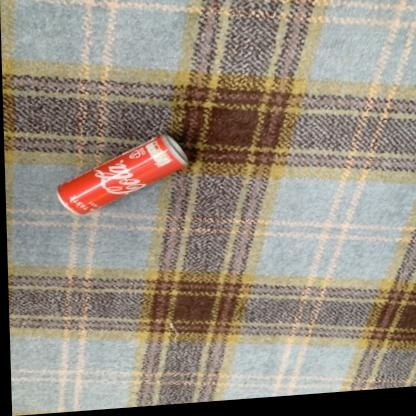trash: (57, 134, 187, 213)
